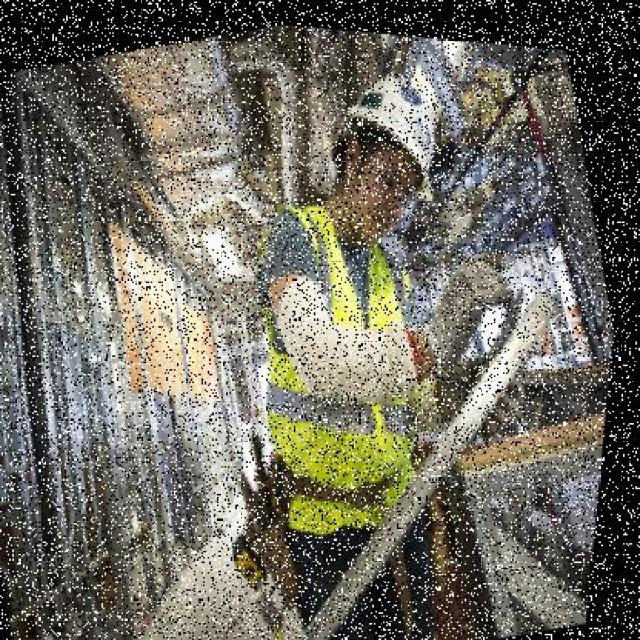helmet: (326, 52, 470, 222)
vest: (216, 157, 491, 533)
